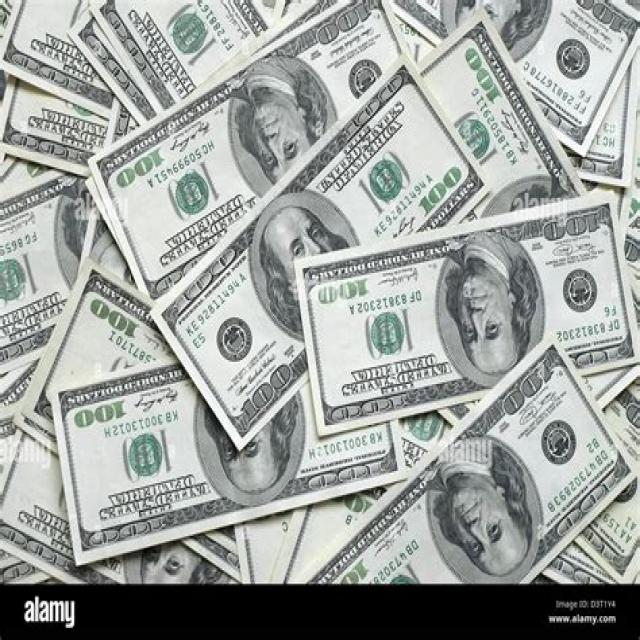Hundred: (153, 57, 489, 447), (94, 0, 400, 306), (294, 334, 634, 584), (295, 189, 637, 434), (53, 337, 405, 566)
